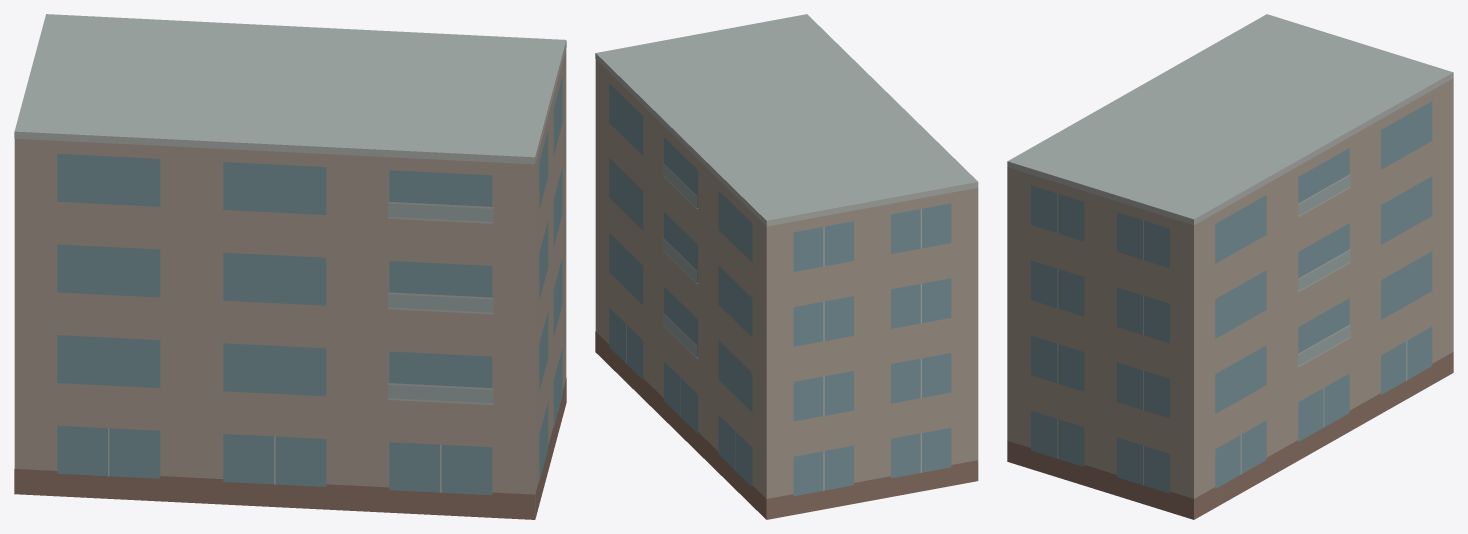
Rendered from survey-upis-32930019.glb.
3 views of the same model, side by side, from view 1: azimuth 30°, elevation 25°; view 2: azimuth 150°, elevation 25°; view 3: azimuth 270°, elevation 25° (orthographic). The views are drawn at different scales.
Visible parts, largest first — view 1: survey-upis-32930019.tmp; view 2: survey-upis-32930019.tmp; view 3: survey-upis-32930019.tmp.
Part boxes in pixels (x1,y1,x2,y2): survey-upis-32930019.tmp: (14, 14, 566, 519); survey-upis-32930019.tmp: (595, 14, 978, 519); survey-upis-32930019.tmp: (1007, 14, 1453, 519).
Bounding box in the file's own units: 18.34 × 12.5 × 16.83.
